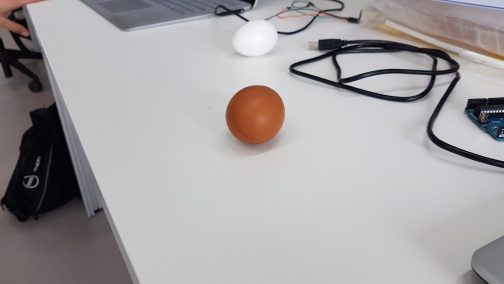egg: (225, 84, 287, 146), (229, 18, 283, 59)
